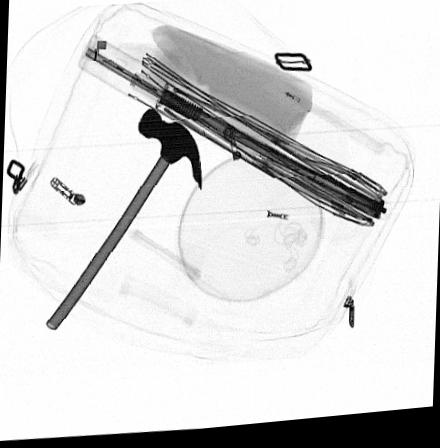Hammer: (44, 108, 201, 330)
